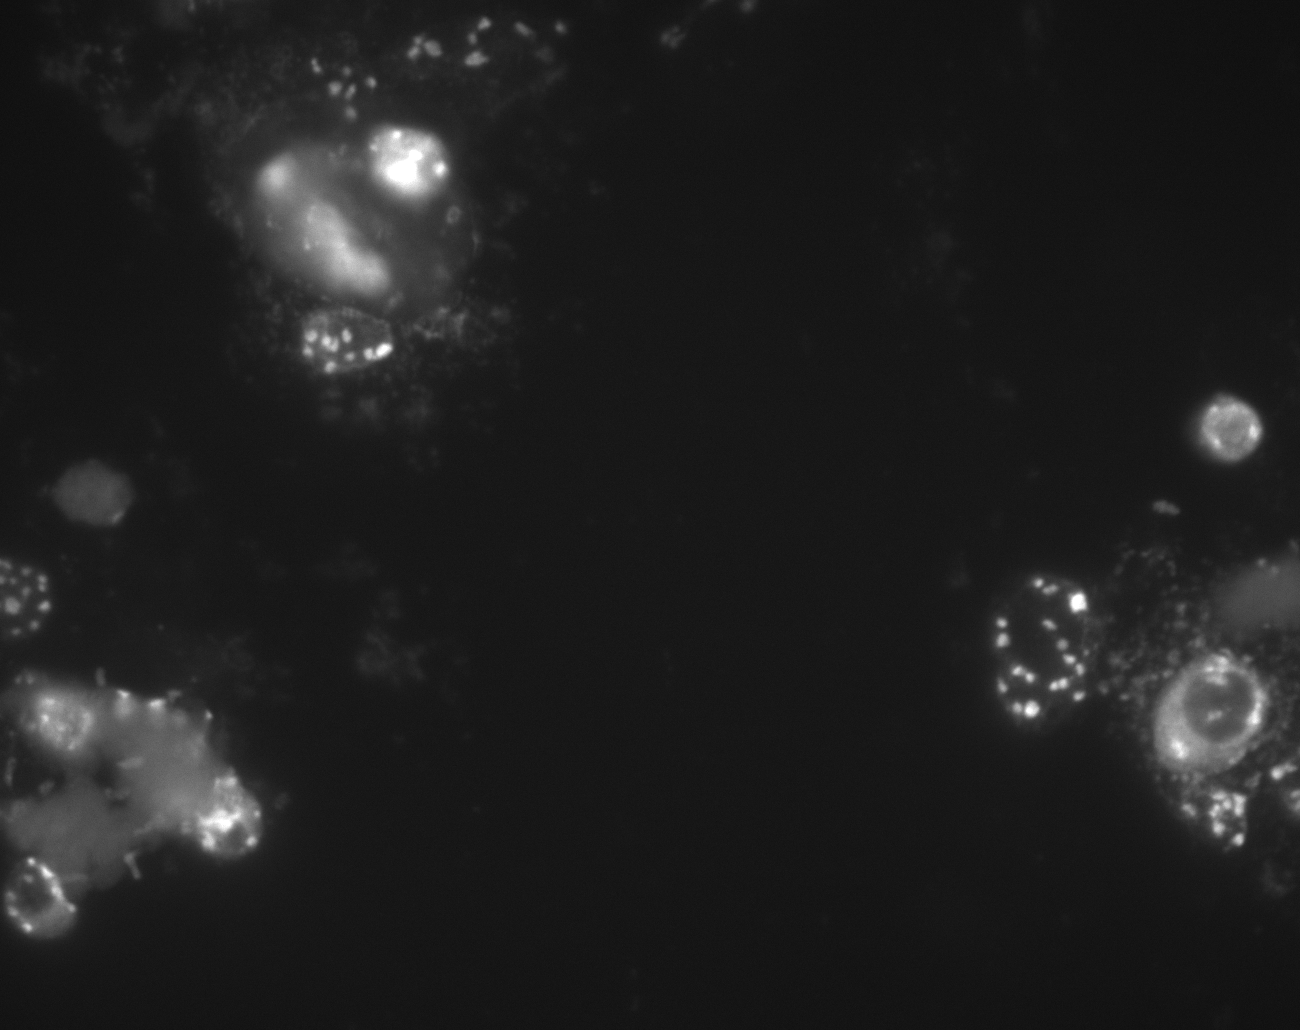Chromosomes: (1081, 581, 1248, 761), (978, 555, 1136, 737)
Others: (22, 1, 683, 608), (1001, 309, 1300, 997), (26, 617, 334, 935), (1120, 533, 1300, 859), (51, 725, 276, 908), (1140, 647, 1286, 828), (25, 422, 150, 569), (1164, 371, 1288, 483)
